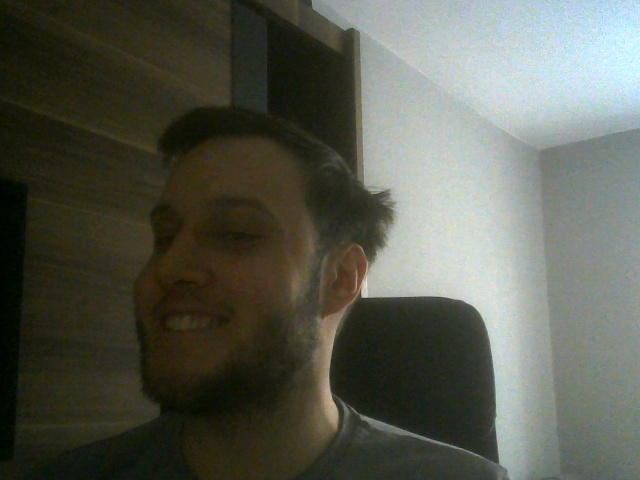happy: (132, 105, 369, 411)
